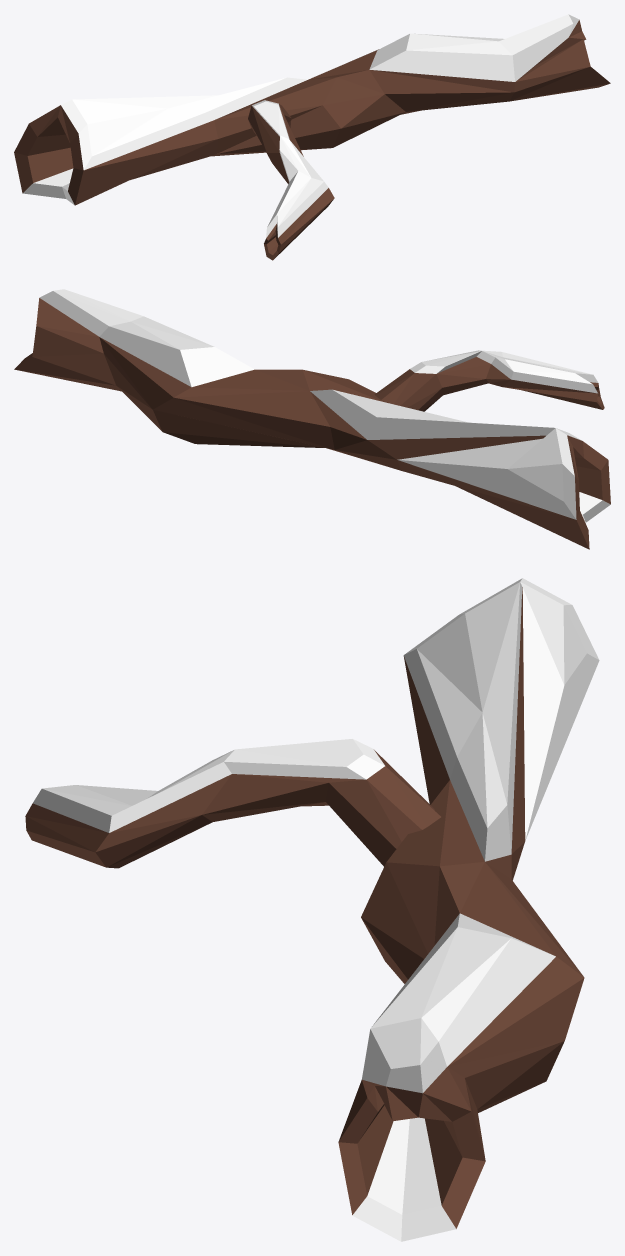
Rendered from Wooden Log_2_Snow.fbx.
The picture shows the model from 3 angles, top to bottom: view 1: azimuth 30°, elevation 25°; view 2: azimuth 150°, elevation 25°; view 3: azimuth 270°, elevation 25°; orthographic projection. The views are drawn at different scales.
Visible parts, largest first — view 1: Wooden Log_2_Snow; view 2: Wooden Log_2_Snow; view 3: Wooden Log_2_Snow.
Boxes of the visible parts, left/top/right/bottom form: Wooden Log_2_Snow: left=14, top=14, right=610, bottom=260; Wooden Log_2_Snow: left=14, top=289, right=610, bottom=549; Wooden Log_2_Snow: left=25, top=578, right=599, bottom=1241.
Size of the model in its own units: 3.52 by 0.5886 by 1.63.
